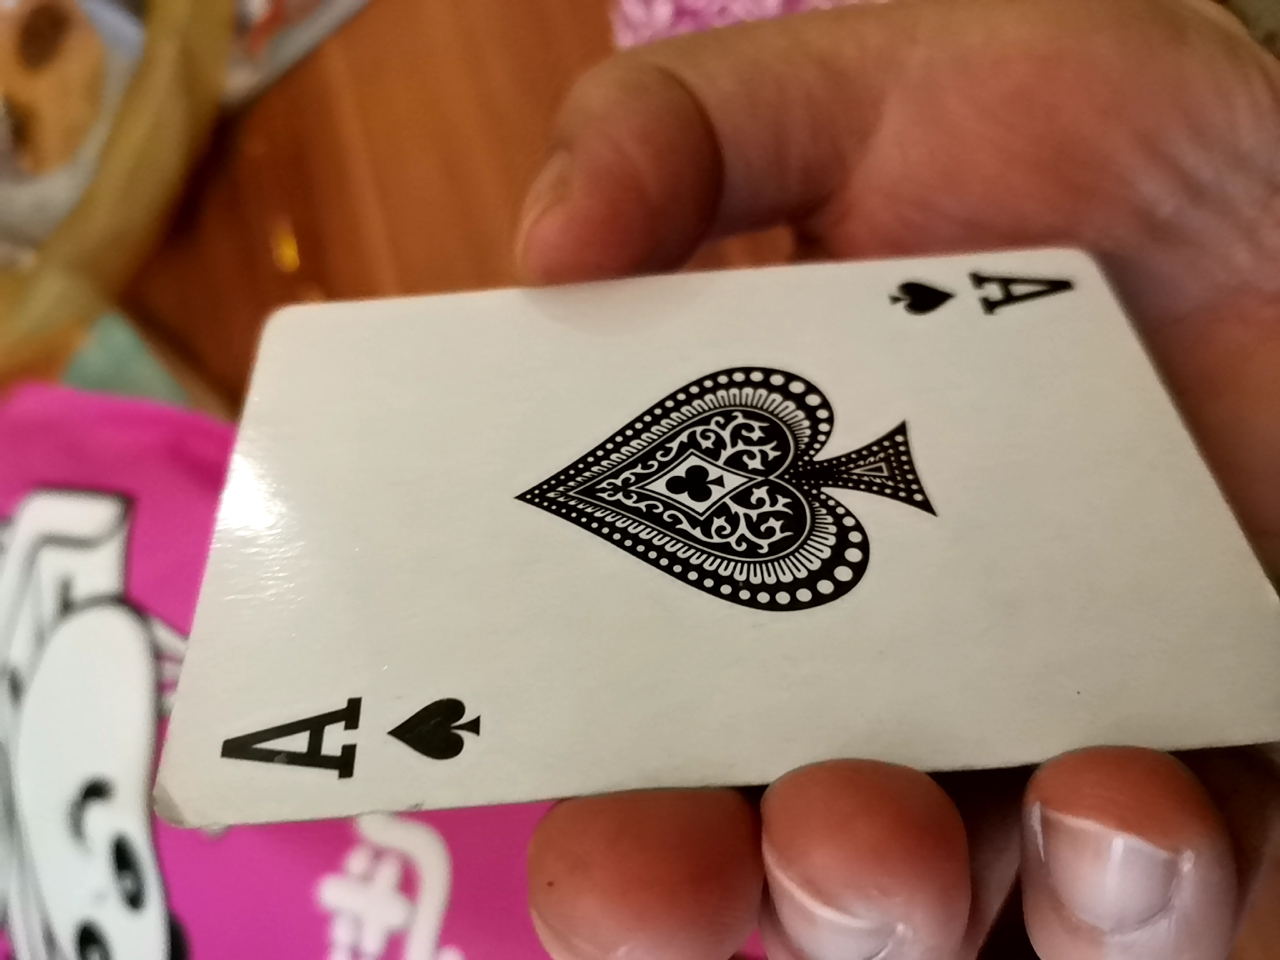ht a: (160, 229, 1262, 879)
